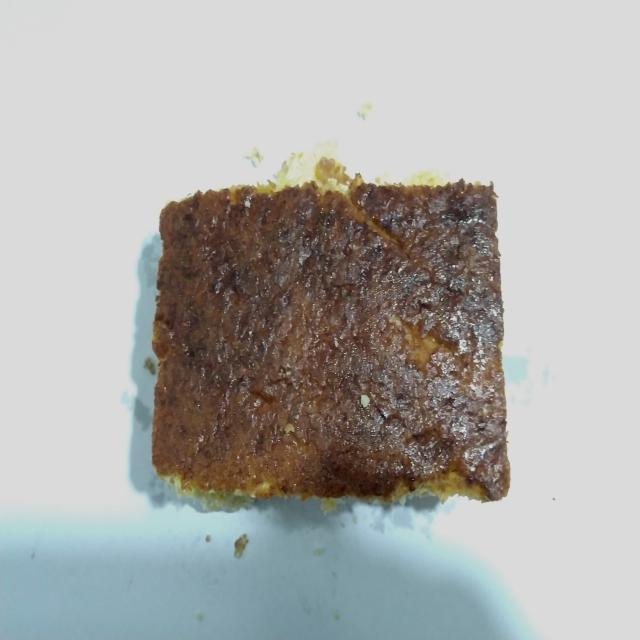Chipa_Guazu: (136, 160, 523, 534)
